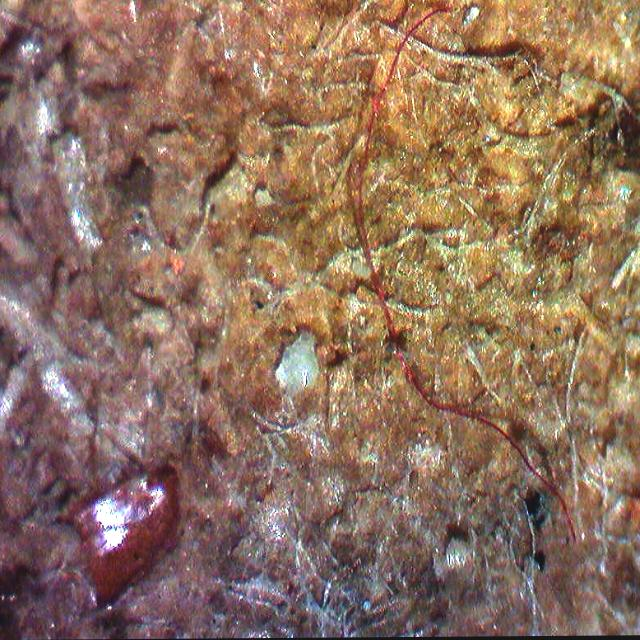microplastic: (355, 4, 577, 546)
